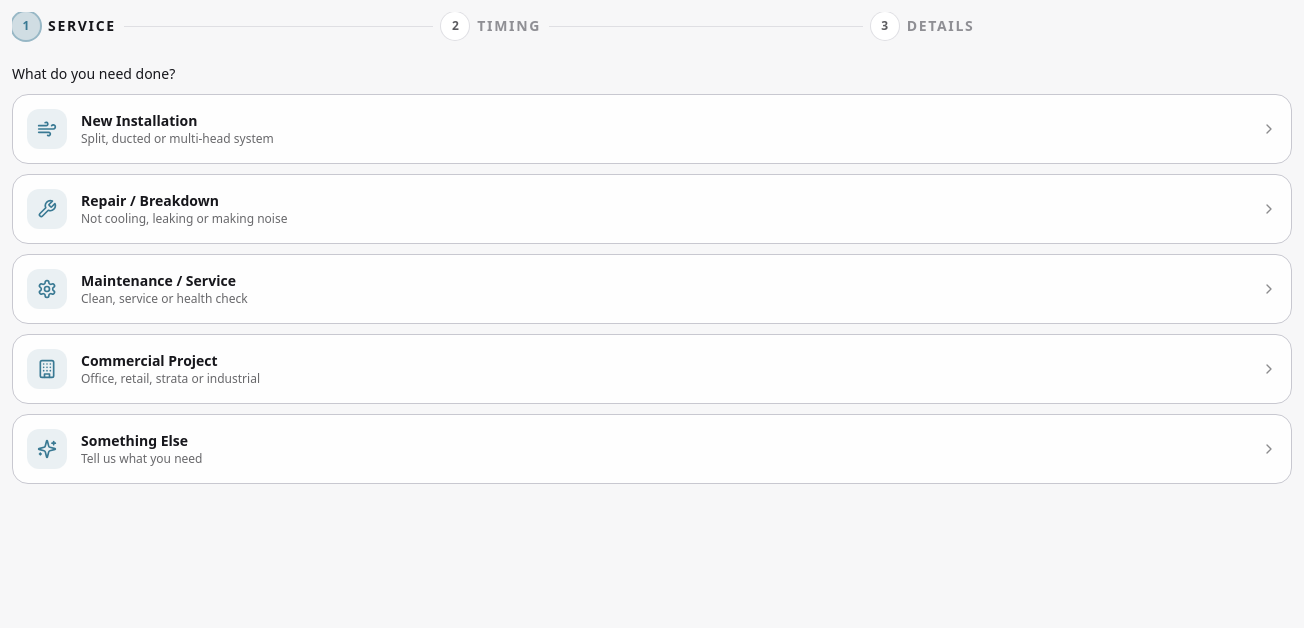
it: QuoteWizard › advances service -> urgency -> details on tap
Click the text "Repair / Breakdown" at (150, 200), box [81,191,219,210]
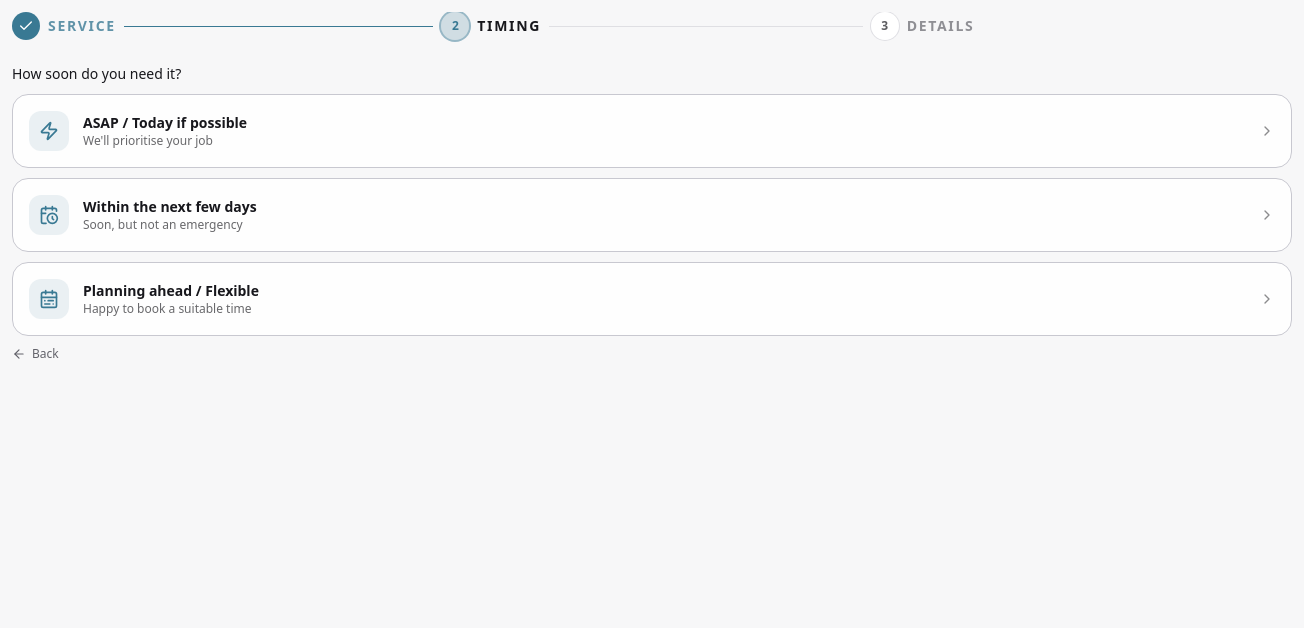
Now the text "How soon do you need it?" is shown, box [12,64,181,83]
Click the text "ASAP / Today if possible" at (165, 122), box [83,113,247,132]
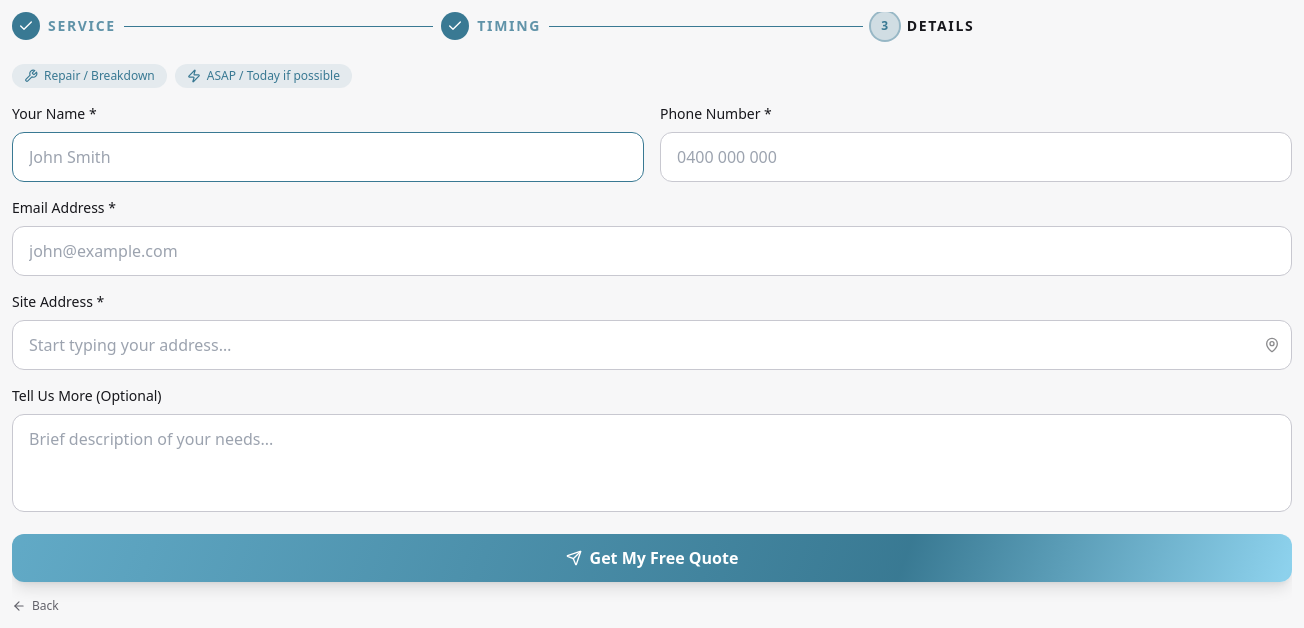
Now the field labelled "Your Name *" is shown, box [12,132,644,182]
